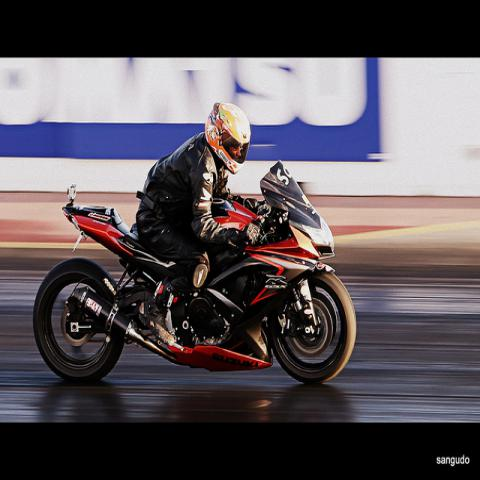motorcycle: (31, 160, 357, 384)
